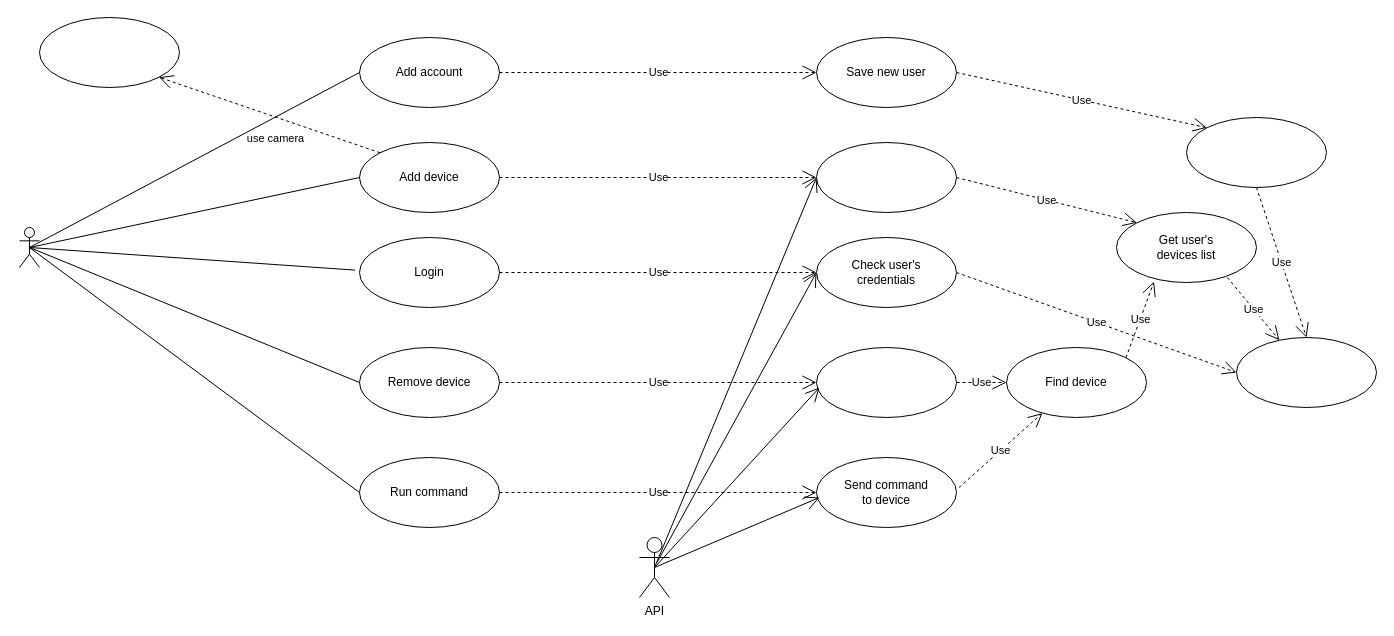
This 1394x636 diagram has some shape labels left out. The shapes that lost their labels are listed below. From the top down, each one's centre as x and y in pixels, then its label:
At pixel 109 52: "Scan device code".
At pixel 1256 152: "Check if user exists".
At pixel 886 177: "Save new device to db".
At pixel 29 247: "User".
At pixel 886 382: "Remove device from db".
At pixel 1306 372: "Look for user".
